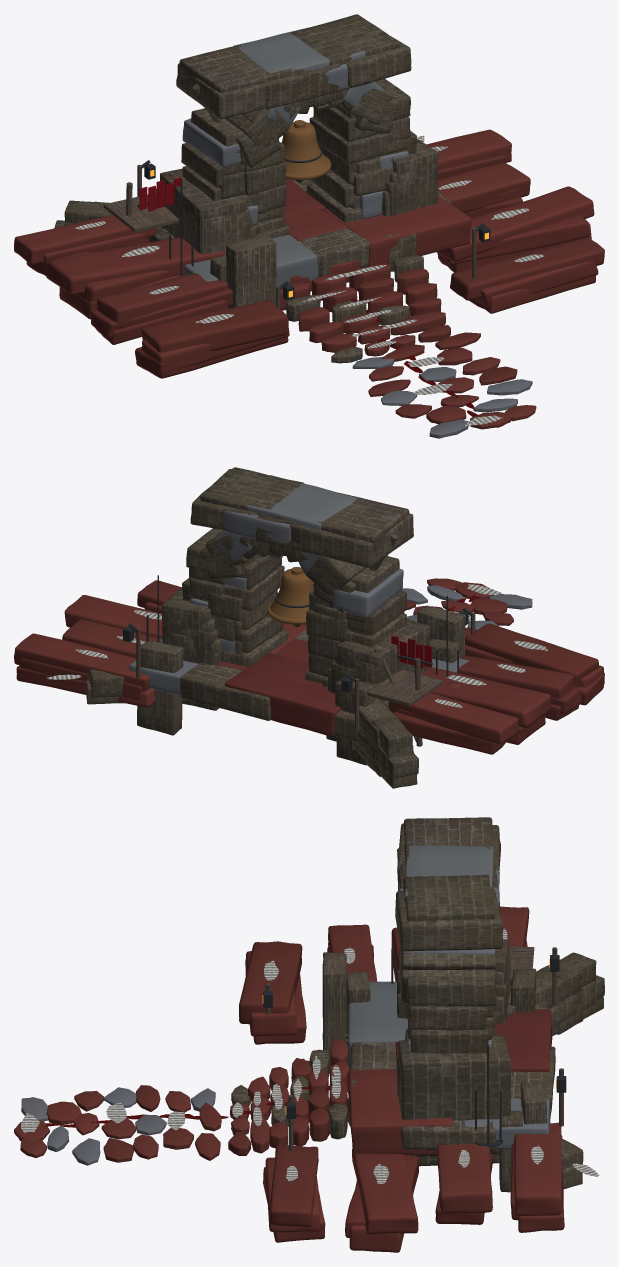
The model's file is carrion_cut_mother_bell.glb.
The picture shows the model from 3 angles, top to bottom: view 1: azimuth 30°, elevation 25°; view 2: azimuth 150°, elevation 25°; view 3: azimuth 270°, elevation 25°; orthographic projection. The views are drawn at different scales.
Visible parts, largest first — view 1: EnvironmentVisuals, MotherBell; view 2: EnvironmentVisuals, MotherBell; view 3: EnvironmentVisuals.
Boxes of the visible parts, x1=… form: EnvironmentVisuals: x1=14, y1=14, x2=604, y2=438; MotherBell: x1=281, y1=122, x2=327, y2=174; EnvironmentVisuals: x1=14, y1=467, x2=604, y2=788; MotherBell: x1=270, y1=568, x2=313, y2=618; EnvironmentVisuals: x1=14, y1=817, x2=604, y2=1252.
Size of what is drawn, in the model's own units: 28.36 by 12.66 by 25.79.
Materials: 11 (3 with a texture image).
